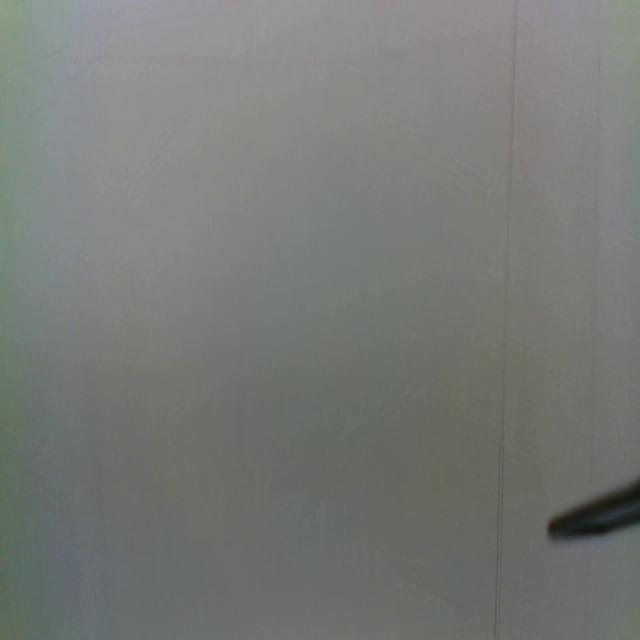crease: (491, 0, 520, 638), (587, 18, 605, 488)
